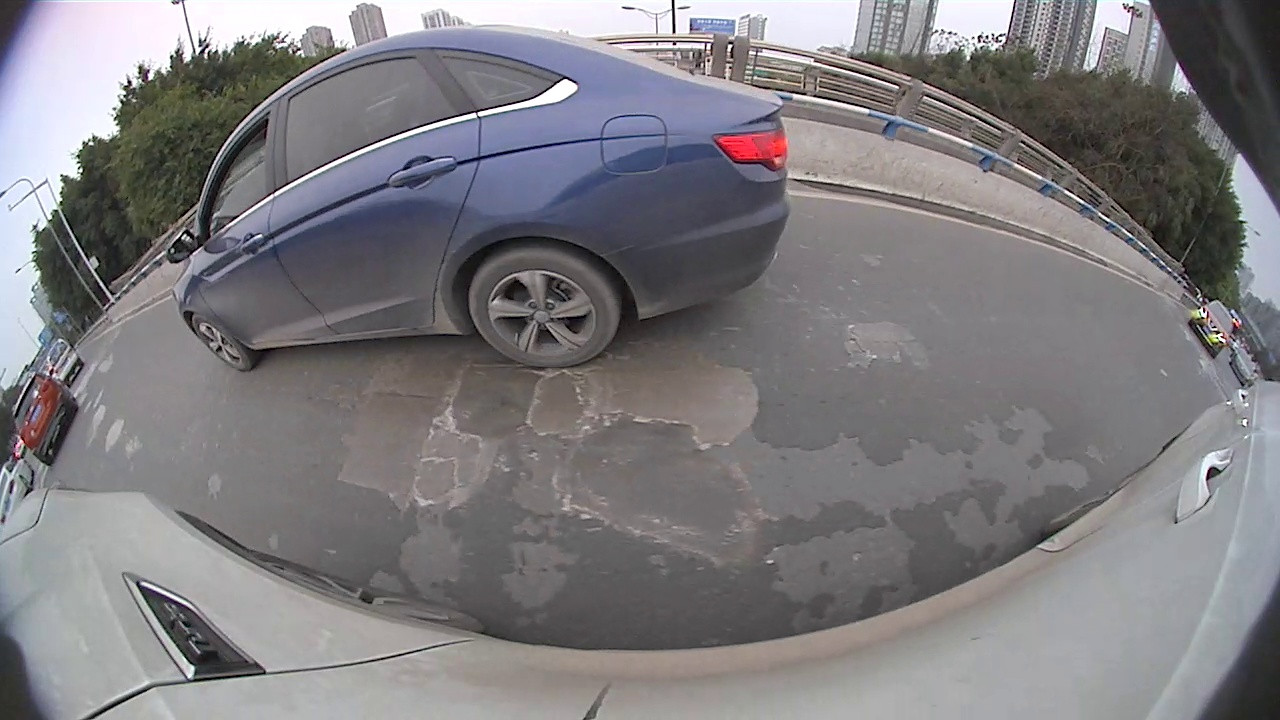bus: (789, 89, 1177, 298)
car: (2, 269, 206, 548), (836, 135, 1089, 279), (1128, 295, 1279, 486), (501, 156, 588, 209), (717, 158, 783, 198)
front: (18, 370, 179, 546), (834, 187, 861, 228), (811, 170, 833, 202)
rear: (940, 214, 993, 277), (729, 176, 735, 193)
truck: (606, 50, 718, 198)
